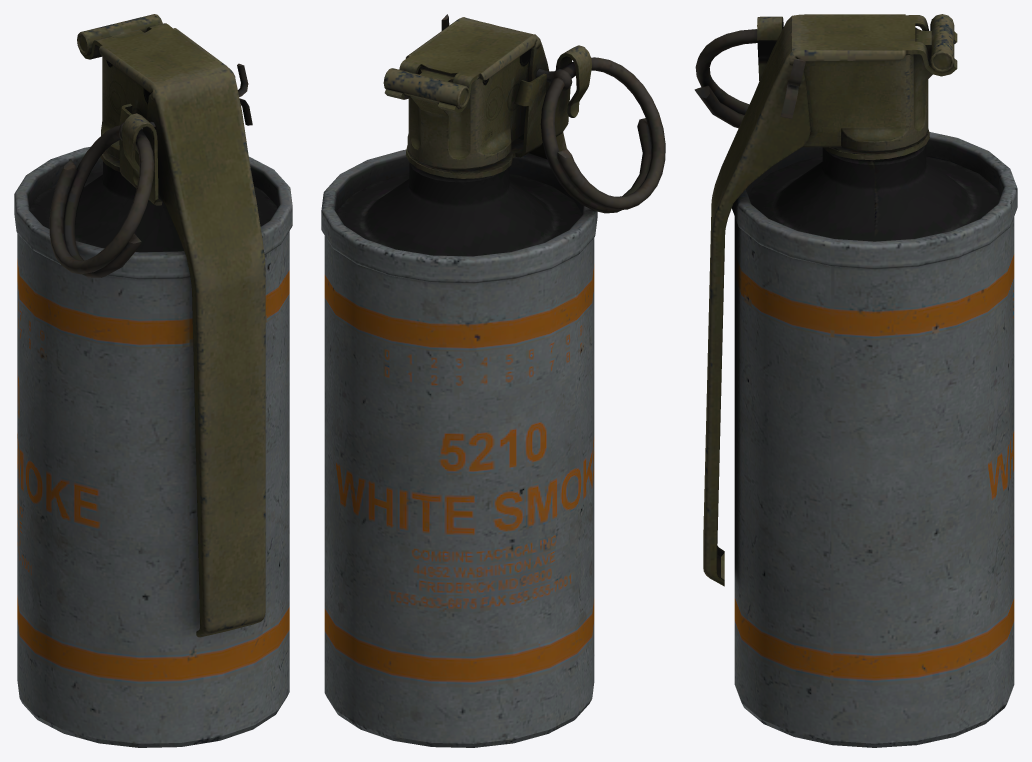
File: smoke_grenade.glb
3 renders of one model, left to right at view 1: azimuth 30°, elevation 25°; view 2: azimuth 150°, elevation 25°; view 3: azimuth 270°, elevation 25°, orthographic. The views are drawn at different scales.
Visible parts, largest first — view 1: models/weapons/v_smoke_model; view 2: models/weapons/v_smoke_model; view 3: models/weapons/v_smoke_model.
Boxes of the visible parts, <box> form: models/weapons/v_smoke_model: <box>14,14,292,747</box>; models/weapons/v_smoke_model: <box>321,14,665,747</box>; models/weapons/v_smoke_model: <box>694,14,1017,747</box>.
Size of the model in its own units: 1.99 by 4.7 by 2.09.
1 material, 1 textured.
